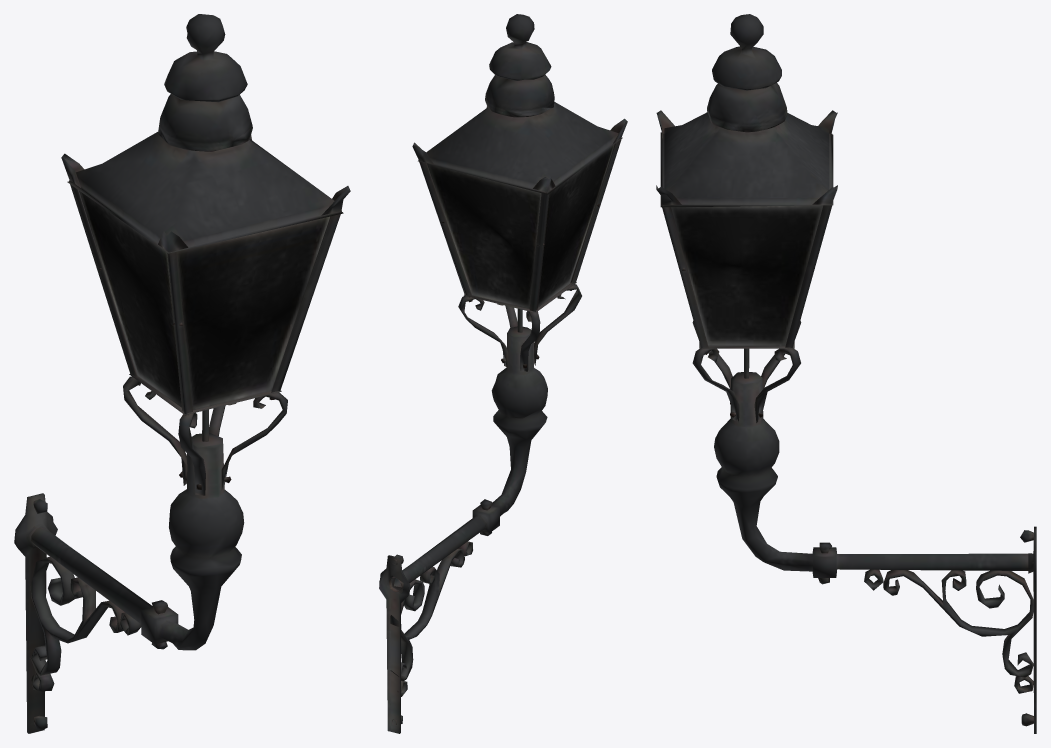
The model's file is street_lamp_02.glb.
3 renders of one model, left to right at view 1: azimuth 30°, elevation 25°; view 2: azimuth 150°, elevation 25°; view 3: azimuth 270°, elevation 25°, orthographic. The views are drawn at different scales.
Visible parts, largest first — view 1: street_lamp_02; view 2: street_lamp_02; view 3: street_lamp_02.
Boxes of the visible parts, x1,y1,x2,y2 form: street_lamp_02: (14, 14, 350, 733); street_lamp_02: (379, 14, 627, 733); street_lamp_02: (656, 14, 1036, 733).
Bounding box in the file's own units: 0.3849 × 1.67 × 0.8053.
2 materials, 2 textured.
